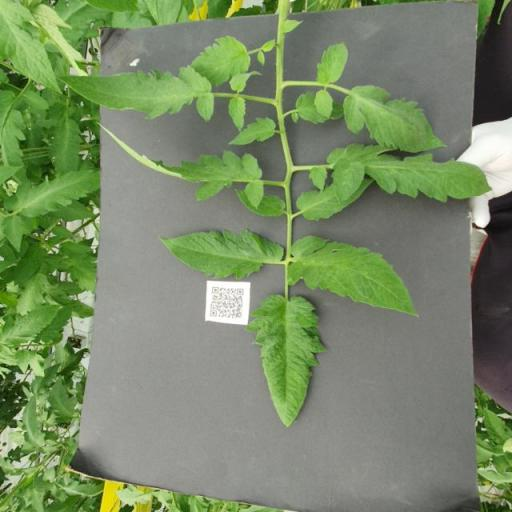Healthy: (244, 294, 328, 428), (287, 235, 420, 319), (327, 144, 491, 204), (54, 64, 216, 122), (344, 85, 448, 153), (157, 228, 284, 281), (296, 178, 375, 222), (190, 36, 252, 88), (316, 42, 349, 86), (228, 116, 277, 145)
